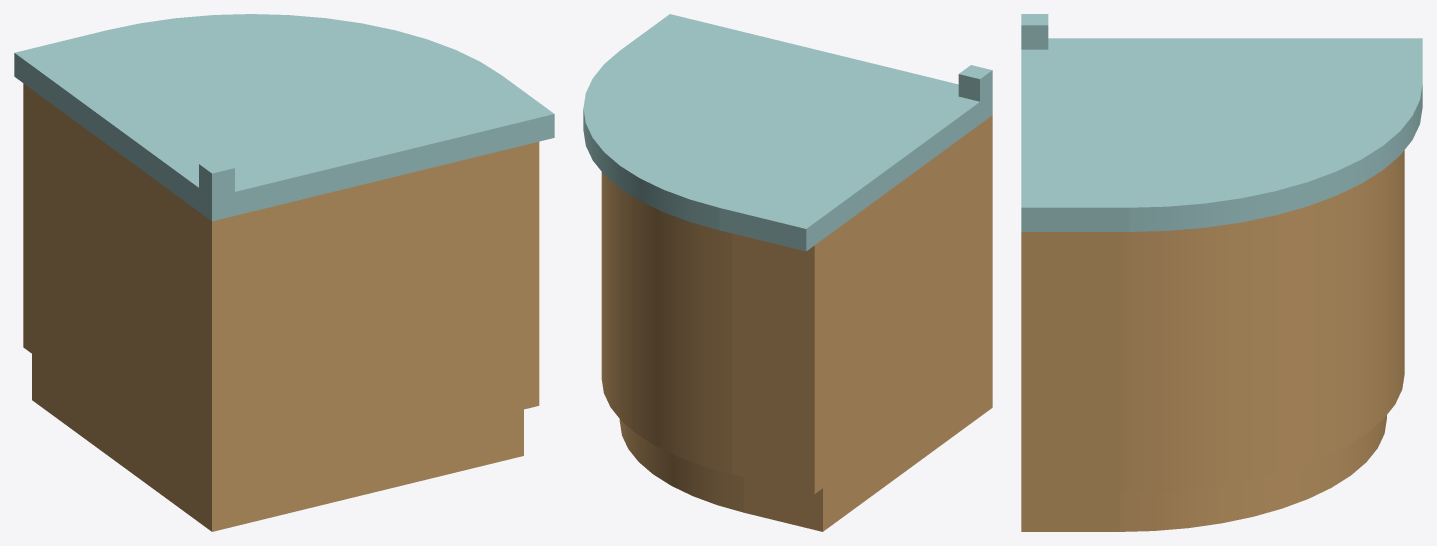
Rendered from kitchenCabinetCornerRound.glb.
The picture shows the model from 3 angles, left to right: view 1: azimuth 30°, elevation 25°; view 2: azimuth 150°, elevation 25°; view 3: azimuth 270°, elevation 25°; orthographic projection. The views are drawn at different scales.
Bounding box in the file's own units: 4.5 × 4.5 × 4.5.
